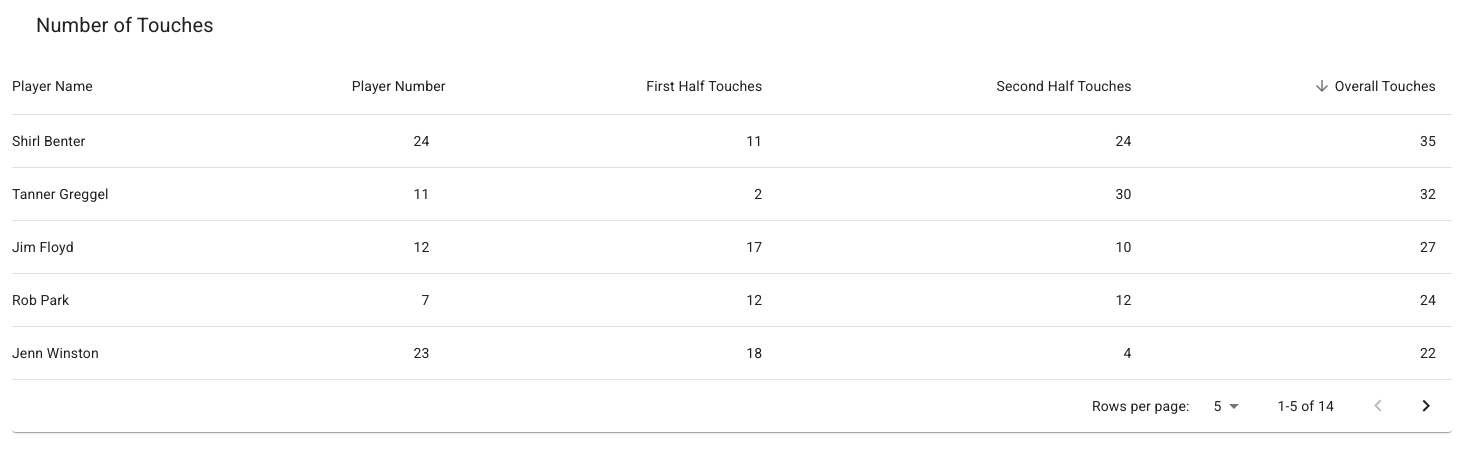
Test: navigates to second page and renders new data
Click the button titled "next page" at (1426, 406), box [1402,382,1450,430]
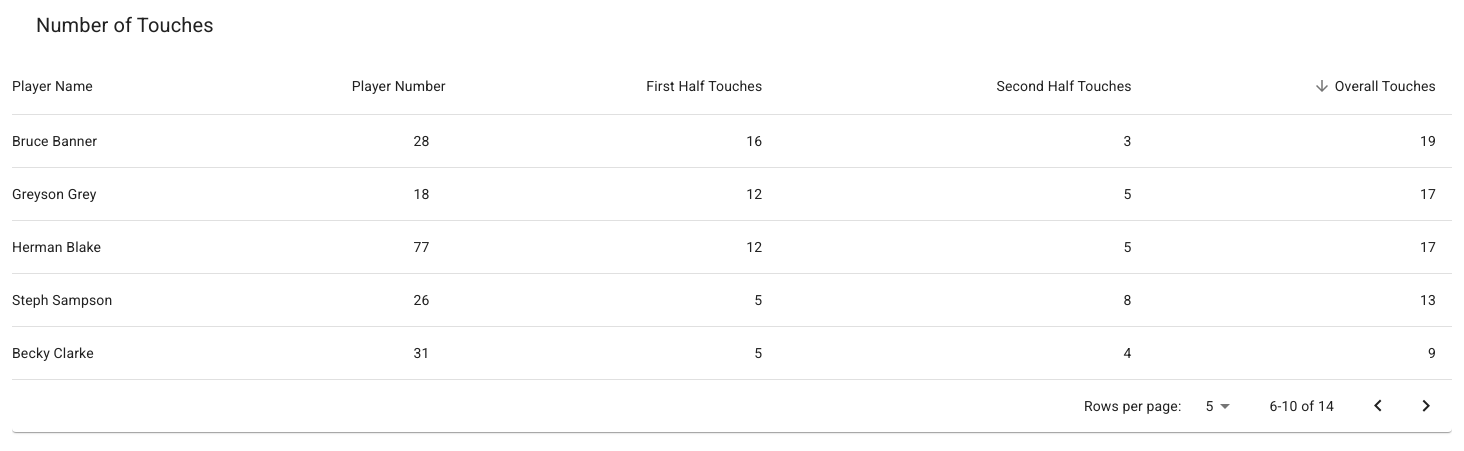
Expected: the text "Bruce Banner" is shown, [12,115,216,168]
Expected: the text "28" is shown, [216,115,446,168]
Expected: the text "16" is shown, [446,115,778,168]
